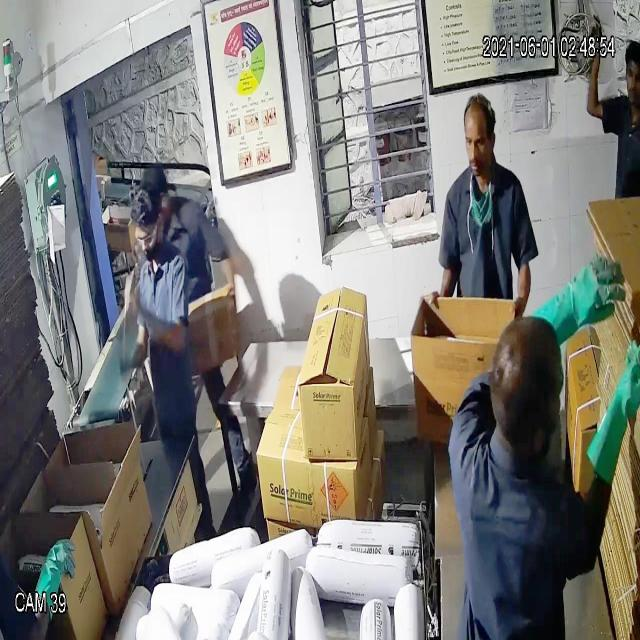glasses: (130, 223, 168, 256)
no-glass: (461, 127, 497, 158)
